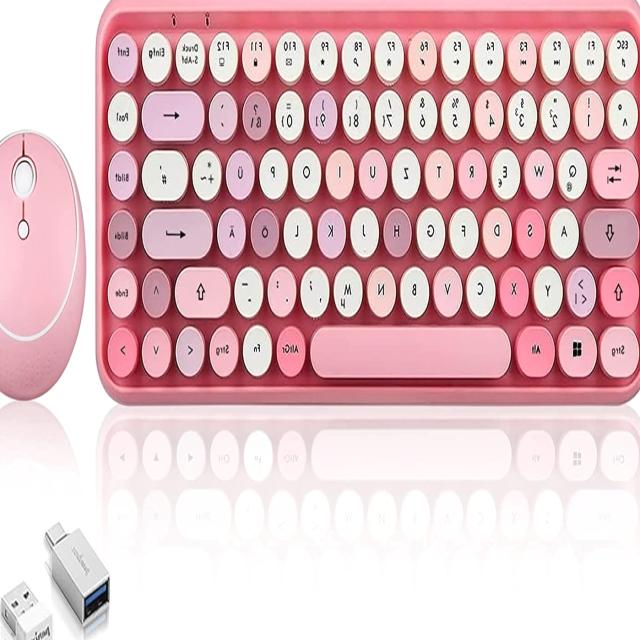0: (276, 86, 306, 140)
1: (576, 87, 606, 138)
2: (542, 87, 572, 139)
3: (508, 87, 538, 139)
4: (476, 87, 506, 138)
5: (442, 87, 472, 138)
6: (409, 87, 439, 139)
7: (376, 87, 406, 139)
8: (343, 87, 373, 139)
9: (309, 87, 339, 138)
a: (551, 204, 581, 256)
accent: (211, 87, 239, 138)
ae: (219, 204, 248, 255)
alt-left: (517, 322, 557, 376)
altgr-right: (278, 322, 308, 374)
b: (402, 262, 432, 314)
c: (467, 262, 497, 314)
caret: (610, 86, 640, 138)
comma: (302, 263, 332, 315)
d: (484, 204, 514, 256)
del: (143, 87, 207, 139)
e: (492, 145, 522, 197)
enter: (143, 204, 216, 258)
f: (451, 204, 481, 256)
g: (418, 204, 448, 256)
h: (385, 204, 413, 254)
hash: (143, 146, 191, 200)
i: (327, 145, 356, 196)
j: (352, 203, 381, 255)
k: (318, 204, 347, 256)
keyboard: (92, 0, 640, 405)
l: (286, 204, 314, 256)
less: (568, 263, 598, 315)
m: (335, 262, 365, 314)
minus: (235, 264, 265, 315)
n: (368, 262, 398, 314)
o: (293, 145, 323, 197)
oe: (252, 204, 281, 255)
p: (261, 145, 290, 197)
plus: (194, 145, 224, 197)
point: (269, 263, 298, 314)
q: (558, 145, 590, 197)
r: (459, 144, 489, 196)
s: (517, 204, 547, 256)
shift-left: (601, 262, 640, 316)
shift-lock: (584, 204, 640, 257)
shift-right: (175, 263, 232, 317)
space: (311, 320, 515, 378)
ss: (244, 88, 272, 138)
strg-left: (601, 321, 640, 376)
strg-right: (210, 322, 240, 376)
t: (426, 145, 455, 196)
tab: (592, 144, 640, 198)
u: (360, 144, 389, 196)
ue: (228, 146, 256, 196)
v: (434, 263, 464, 314)
w: (525, 144, 555, 196)
x: (501, 263, 531, 314)
y: (535, 263, 565, 315)
z: (393, 145, 423, 196)
